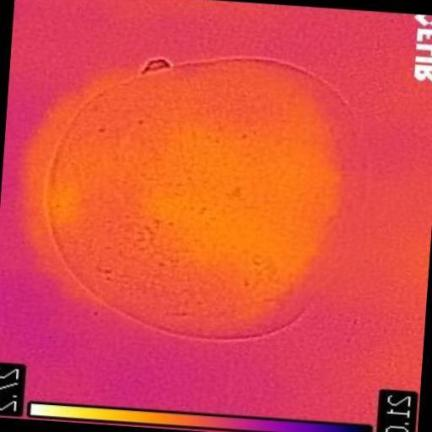mango: (43, 59, 360, 336)
